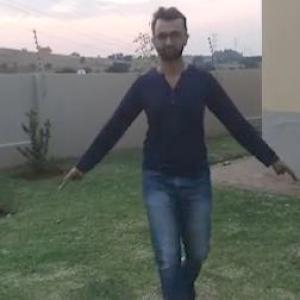land: (87, 18, 275, 270)
